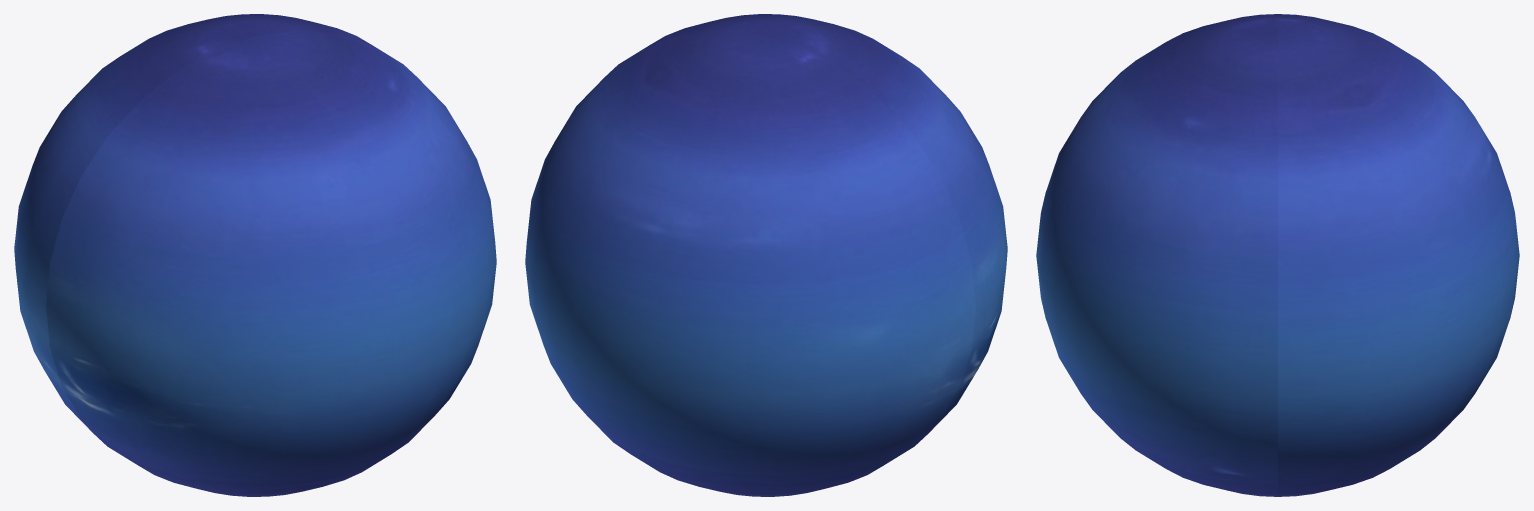
Rendered from Neptune.glb.
3 views of the same model, side by side, from view 1: azimuth 30°, elevation 25°; view 2: azimuth 150°, elevation 25°; view 3: azimuth 270°, elevation 25° (orthographic).
Visible parts, largest first — view 1: Sphere.061, Sphere.060; view 2: Sphere.060, Sphere.061; view 3: Sphere.060, Sphere.061.
Boxes of the visible parts, <box> form: Sphere.061: <box>46,30,496,496</box>; Sphere.060: <box>14,14,370,443</box>; Sphere.060: <box>525,30,975,496</box>; Sphere.061: <box>651,14,1007,443</box>; Sphere.060: <box>1278,14,1519,496</box>; Sphere.061: <box>1036,14,1277,496</box>.
Bounding box in the file's own units: 2 × 2 × 2.
Materials: 5 (5 with a texture image).
